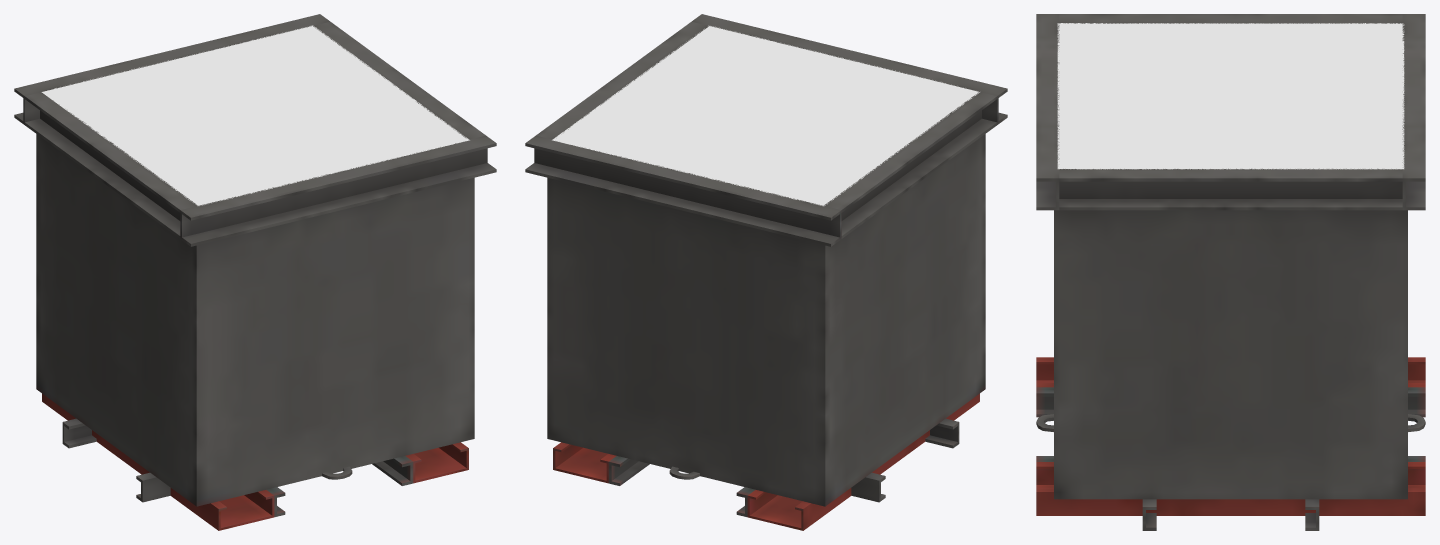
The model's file is objects_un_quarrybox01_open.gltf.
3 renders of one model, left to right at view 1: azimuth 30°, elevation 25°; view 2: azimuth 150°, elevation 25°; view 3: azimuth 270°, elevation 25°, orthographic. The views are drawn at different scales.
Visible parts, largest first — view 1: um_objects_un_quarrybox01_open_model_lod0Shape:objects_un_qu (×2); view 2: um_objects_un_quarrybox01_open_model_lod0Shape:objects_un_qu (×2); view 3: um_objects_un_quarrybox01_open_model_lod0Shape:objects_un_qu (×2).
Part boxes in pixels (left/top/right/bottom): um_objects_un_quarrybox01_open_model_lod0Shape:objects_un_qu (×2): left=14, top=14, right=496, bottom=530; um_objects_un_quarrybox01_open_model_lod0Shape:objects_un_qu (×2): left=525, top=14, right=1007, bottom=530; um_objects_un_quarrybox01_open_model_lod0Shape:objects_un_qu (×2): left=1036, top=14, right=1425, bottom=530.
Size of what is drawn, in the model's own units: 1.32 by 1.32 by 1.32.
Materials: 2 (1 with a texture image).
